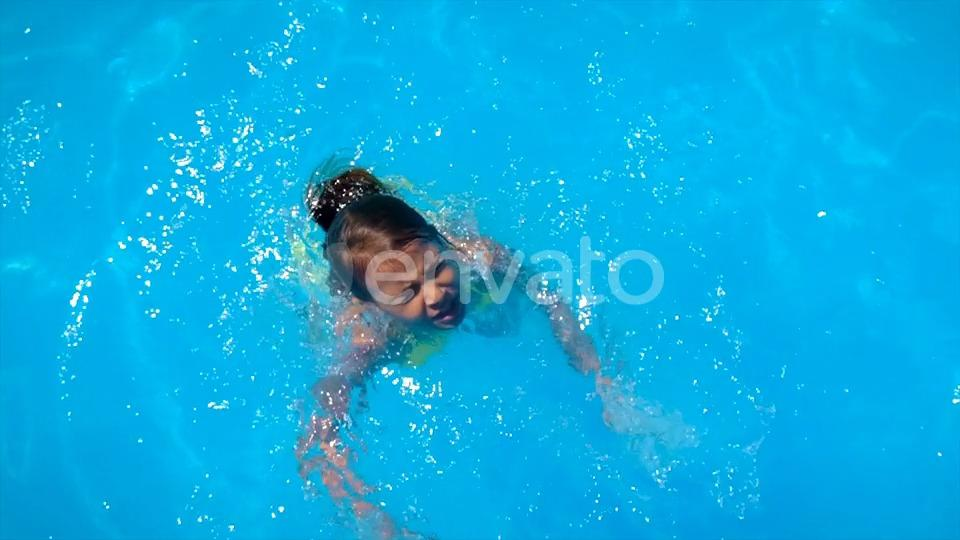Drowning: (151, 122, 716, 442)
